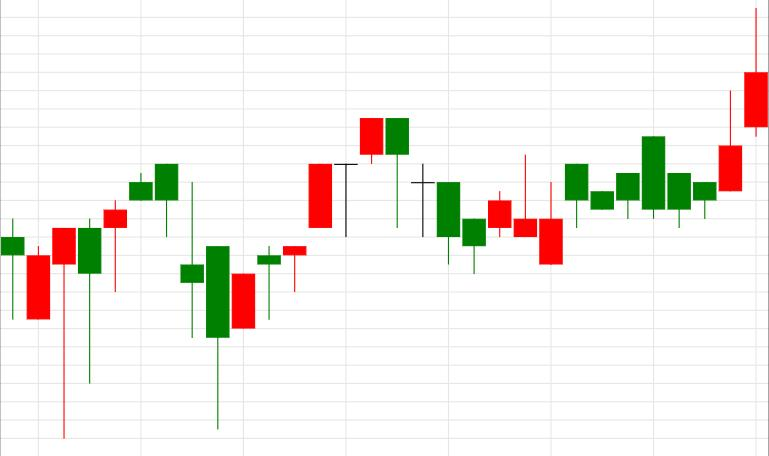hanging_man_fall: (232, 118, 409, 328)
